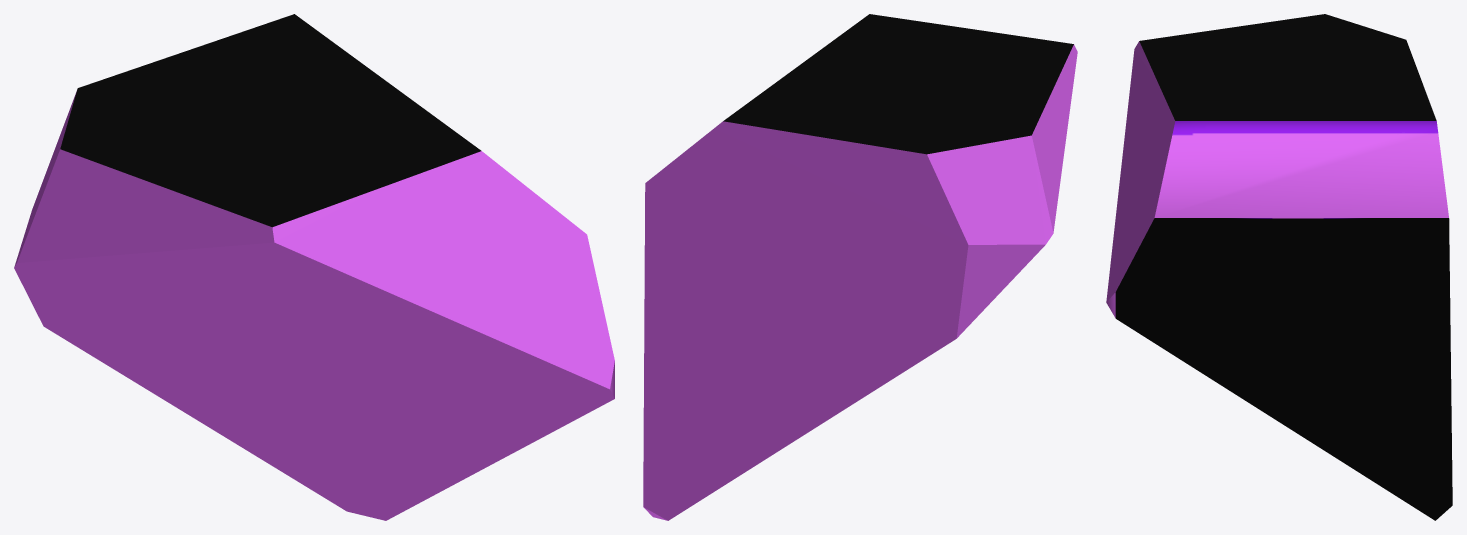
Rendered from blockParticle_12.gltf.
3 views of the same model, side by side, from view 1: azimuth 30°, elevation 25°; view 2: azimuth 150°, elevation 25°; view 3: azimuth 270°, elevation 25° (orthographic). The views are drawn at different scales.
Visible parts, largest first — view 1: 立方体_cell.014; view 2: 立方体_cell.014; view 3: 立方体_cell.014.
Boxes of the visible parts, x1=… form: 立方体_cell.014: x1=14, y1=14, x2=614, y2=520; 立方体_cell.014: x1=643, y1=14, x2=1077, y2=520; 立方体_cell.014: x1=1106, y1=14, x2=1452, y2=520.
Size of the model in its own units: 1.03 by 1.18 by 1.01.
Materials: 2 (2 with a texture image).
